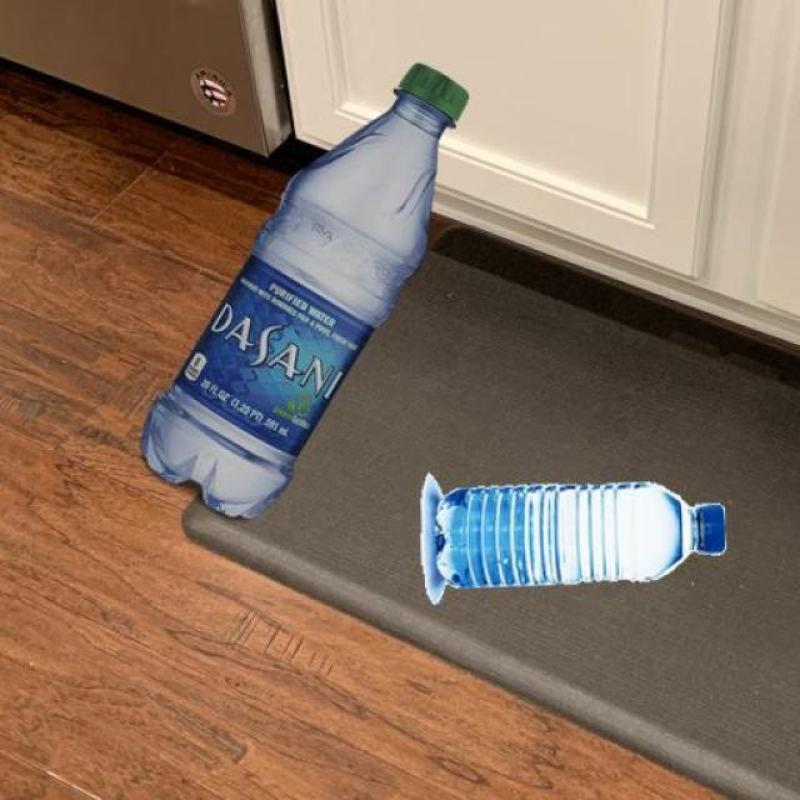botella: (142, 62, 466, 520), (440, 481, 726, 588)
